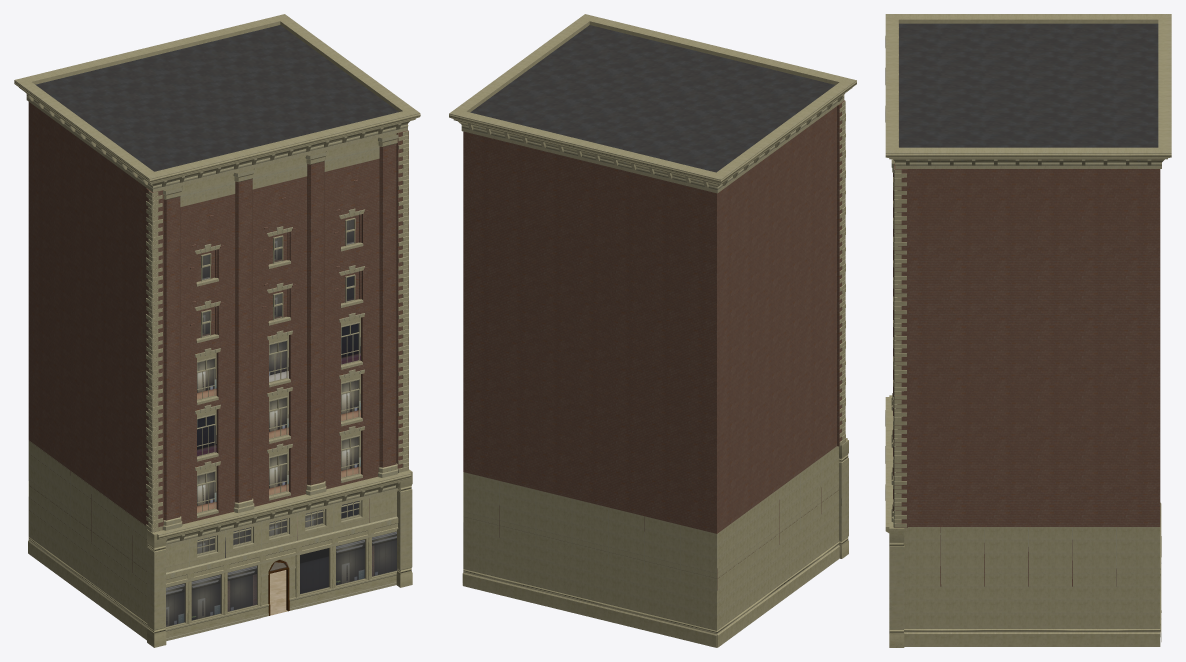
The model's file is building_medium_2_001.glb.
3 views of the same model, side by side, from view 1: azimuth 30°, elevation 25°; view 2: azimuth 150°, elevation 25°; view 3: azimuth 270°, elevation 25° (orthographic). The views are drawn at different scales.
Parts seen in each view (by area): view 1: Building_Medium_2.001; view 2: Building_Medium_2.001; view 3: Building_Medium_2.001.
Part boxes in pixels (x1,y1,x2,y2): Building_Medium_2.001: (14,14,420,647); Building_Medium_2.001: (449,14,856,647); Building_Medium_2.001: (885,14,1171,647).
Bounding box in the file's own units: 15.06 × 25.01 × 13.04.
8 materials, 7 textured.
